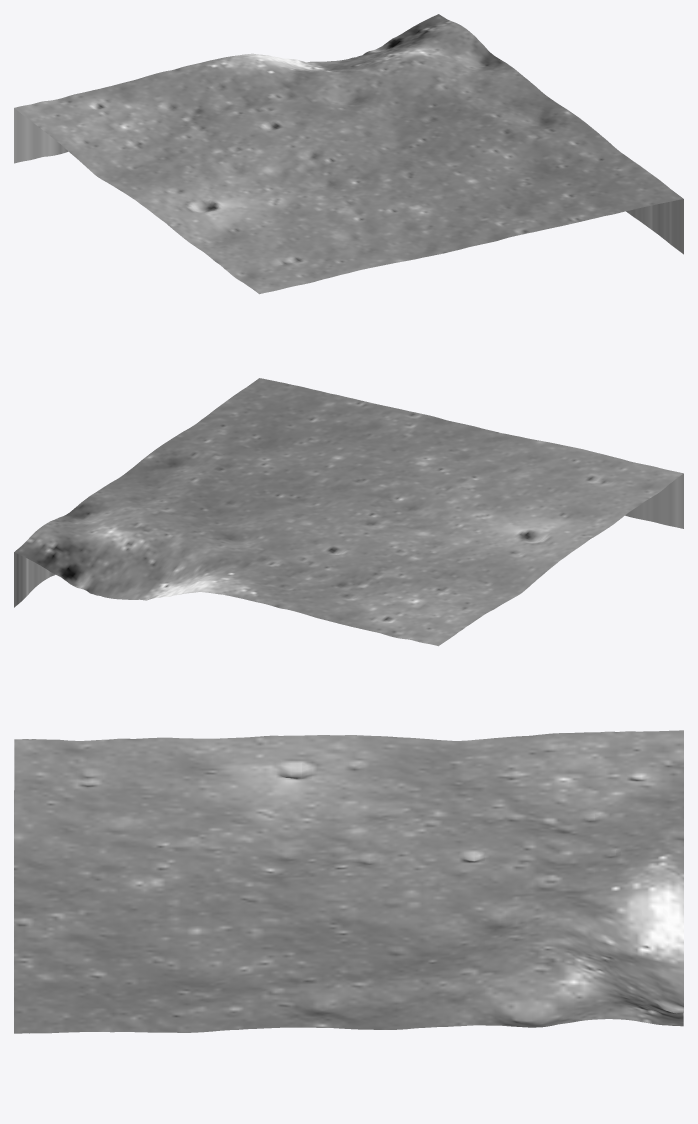
3 views of the same model, one above another, from view 1: azimuth 30°, elevation 25°; view 2: azimuth 150°, elevation 25°; view 3: azimuth 270°, elevation 25° (orthographic). The views are drawn at different scales.
Size of the model in its own units: 639 by 128 by 639.
Materials: 1 (1 with a texture image).
